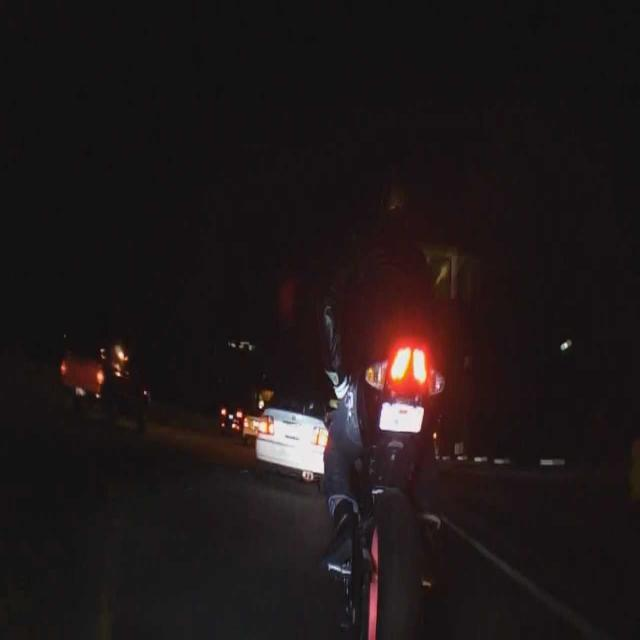Motorbike: (291, 307, 452, 640)
People: (319, 167, 446, 577)
car: (240, 351, 340, 484), (53, 314, 163, 425), (212, 370, 271, 463)
